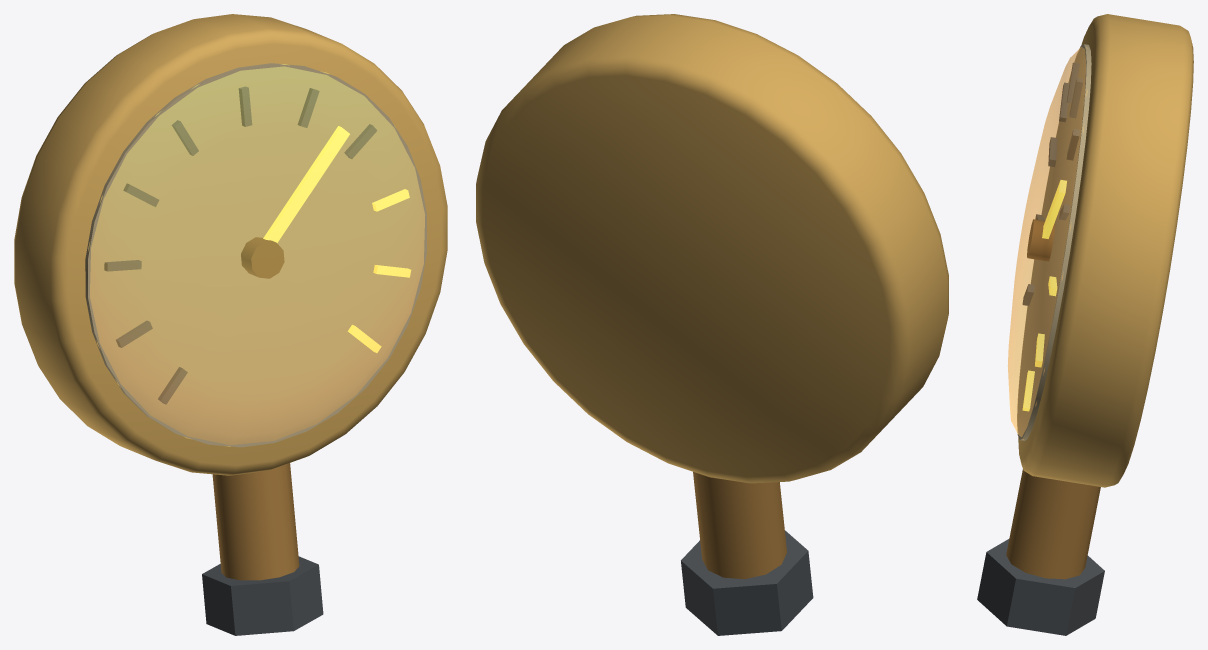
File: part_gauge.glb
3 views of the same model, side by side, from view 1: azimuth 30°, elevation 25°; view 2: azimuth 150°, elevation 25°; view 3: azimuth 270°, elevation 25° (orthographic). The views are drawn at different scales.
Parts seen in each view (by area): view 1: part_gauge; view 2: part_gauge; view 3: part_gauge.
Part boxes in pixels (box(x1,y1,x2,y2)): part_gauge: box(14, 14, 447, 635); part_gauge: box(476, 14, 948, 635); part_gauge: box(977, 14, 1193, 635).
Size of the model in its own units: 0.14 by 0.1922 by 0.0648.
